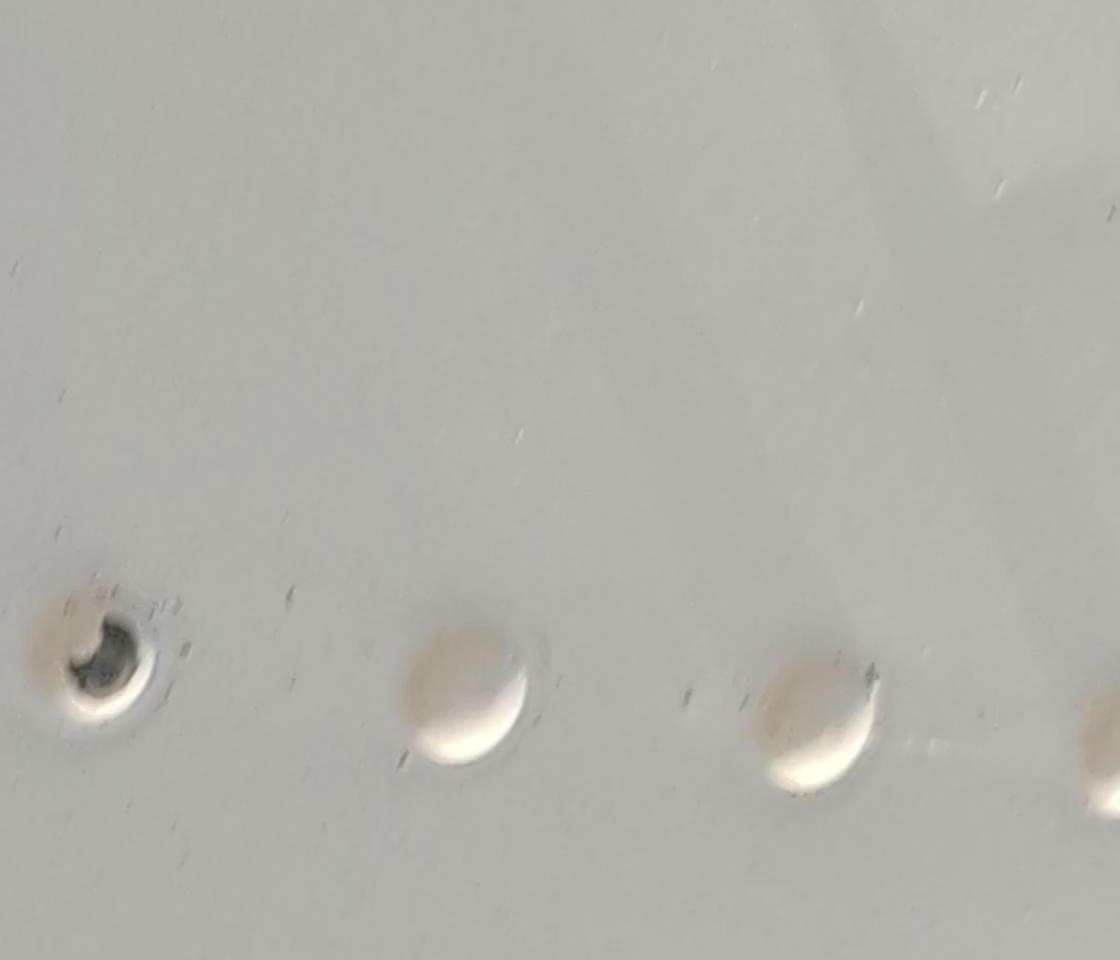paint_peel: (67, 619, 143, 696)
